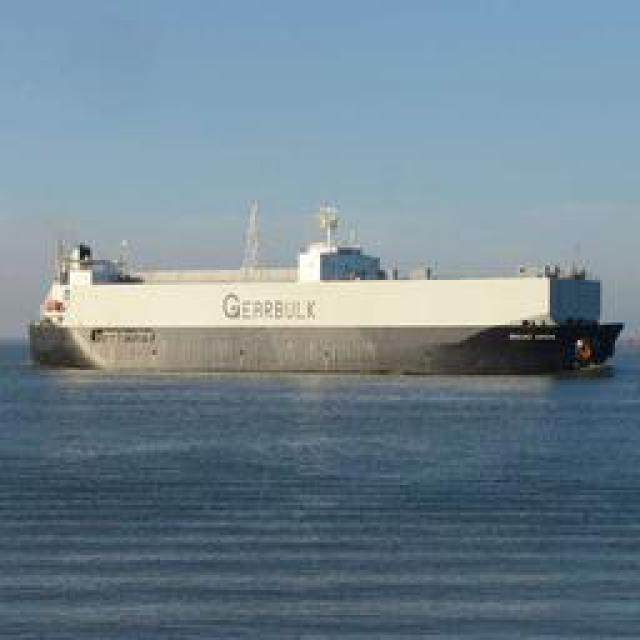Ship: (20, 214, 628, 387)
